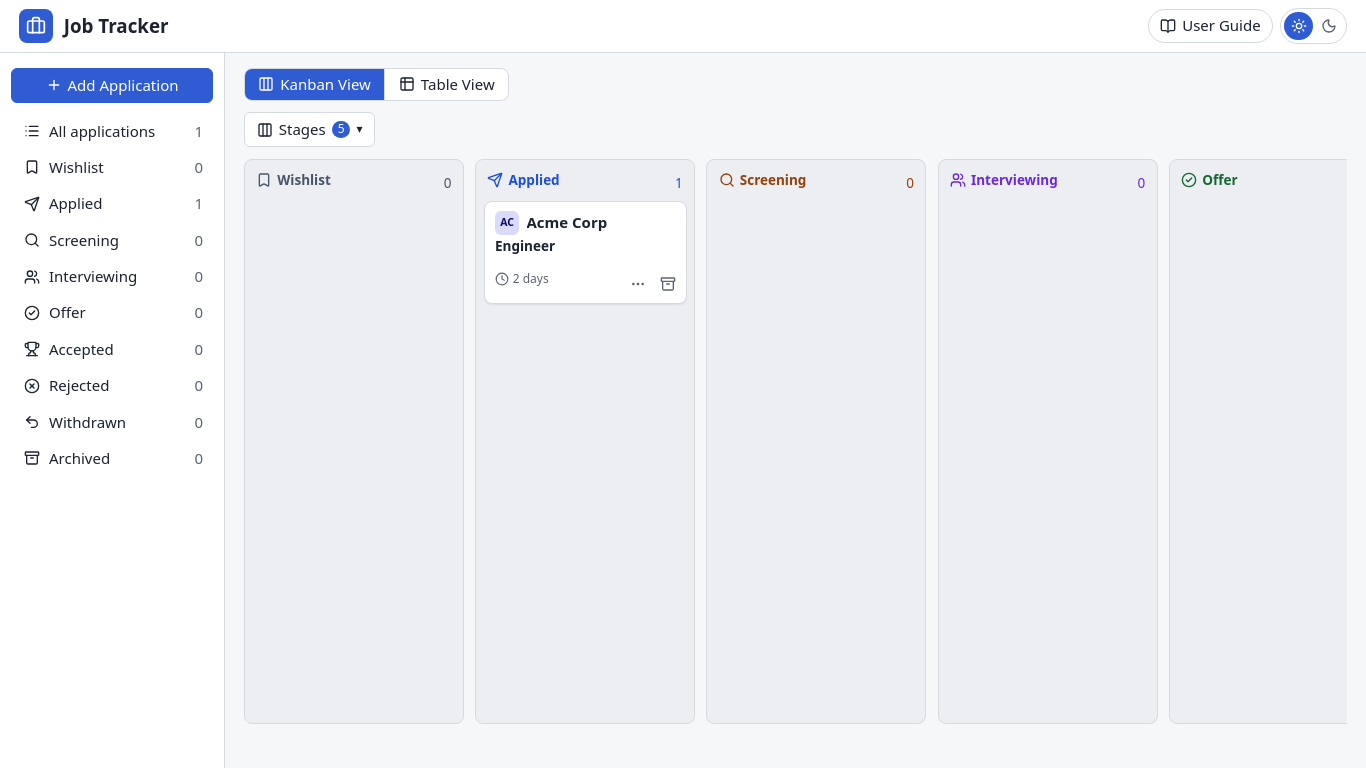
Test: the User Guide link in the header (spec 020) › opens the guide from the board, and choosing the highlighted button again returns to it (spec 021, AC-8, AC-9)
Click the link "User Guide" at (1210, 26), box [1148,8,1273,43]
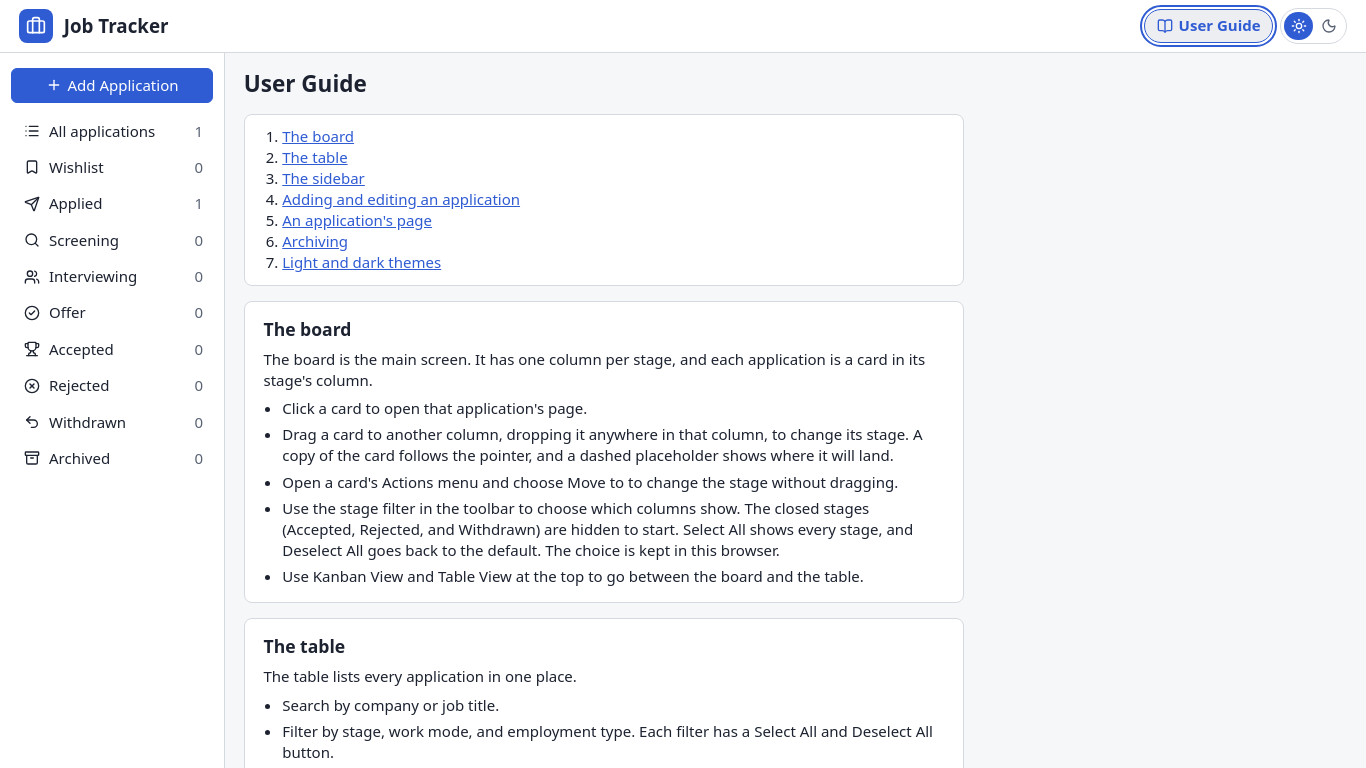
Result: the heading "User Guide" is shown at [244,68,367,98]
Click the link "User Guide" at (1209, 26), box [1144,8,1273,43]
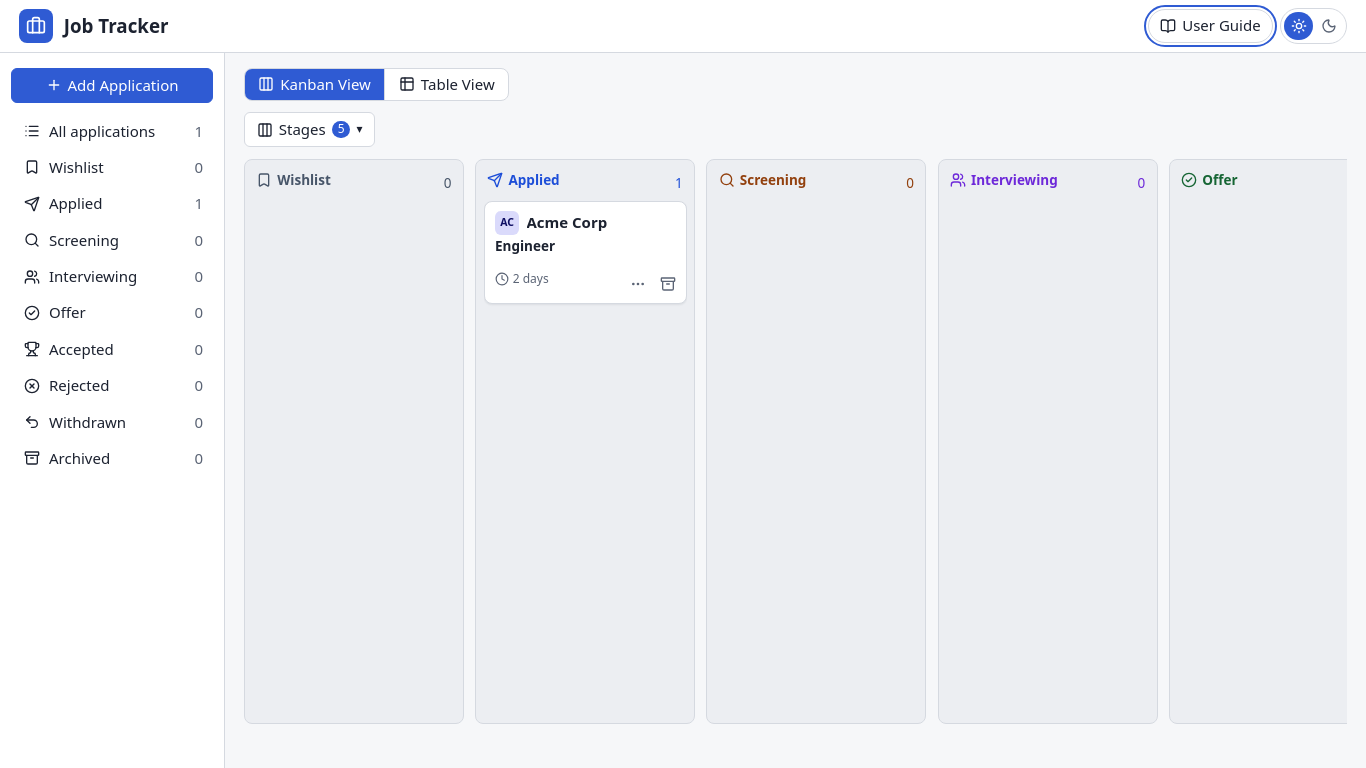
Result: the element "Wishlist" is shown at [244,158,464,724]
